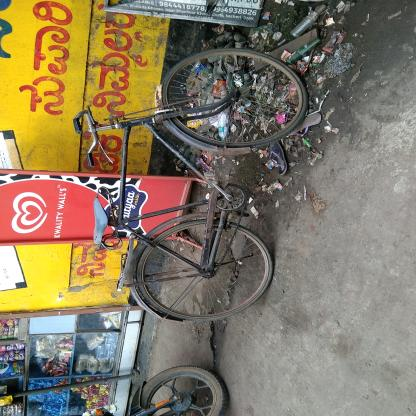bike: (46, 35, 328, 330)
